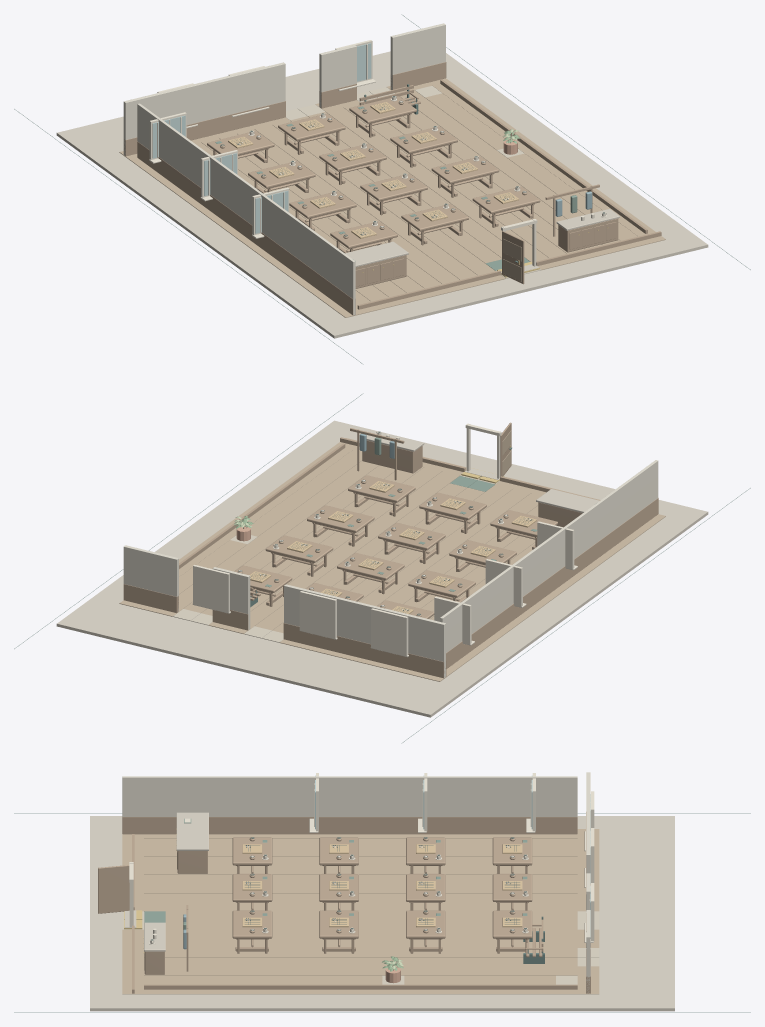
The model's file is room.glb.
3 views of the same model, one above another, from view 1: azimuth 30°, elevation 25°; view 2: azimuth 150°, elevation 25°; view 3: azimuth 270°, elevation 25° (orthographic). The views are drawn at different scales.
Visible parts, largest first — view 1: Campaign_floor, Campaign_wood, Campaign_stone, Campaign_plaster, Campaign_cream, Campaign_board, Campaign_glass, Campaign_paving, Campaign_metal, Campaign_ink; view 2: Campaign_stone, Campaign_floor, Campaign_wood, Campaign_plaster, Campaign_cream, Campaign_board, Campaign_paving, Campaign_metal, Campaign_ink, Campaign_cloth; view 3: Campaign_floor, Campaign_stone, Campaign_wood, Campaign_plaster, Campaign_cream, Campaign_board, Campaign_metal, Campaign_paving, Campaign_ink, Campaign_cloth.
Part boxes in pixels (bbox=[...]): Campaign_floor: bbox=[119, 78, 665, 317]; Campaign_wood: bbox=[124, 62, 661, 315]; Campaign_stone: bbox=[56, 51, 708, 338]; Campaign_plaster: bbox=[123, 23, 445, 315]; Campaign_cream: bbox=[149, 40, 606, 266]; Campaign_board: bbox=[228, 102, 518, 238]; Campaign_glass: bbox=[152, 43, 371, 233]; Campaign_paving: bbox=[286, 86, 540, 278]; Campaign_metal: bbox=[14, 14, 750, 364]; Campaign_ink: bbox=[220, 96, 604, 236]; Campaign_stone: bbox=[56, 420, 708, 717]; Campaign_floor: bbox=[119, 430, 665, 681]; Campaign_wood: bbox=[123, 422, 658, 678]; Campaign_plaster: bbox=[123, 460, 658, 677]; Campaign_cream: bbox=[192, 423, 577, 657]; Campaign_board: bbox=[250, 481, 536, 614]; Campaign_paving: bbox=[173, 475, 505, 642]; Campaign_metal: bbox=[14, 393, 750, 743]; Campaign_ink: bbox=[238, 431, 532, 615]; Campaign_cloth: bbox=[265, 437, 596, 591]; Campaign_floor: bbox=[122, 829, 599, 994]; Campaign_stone: bbox=[90, 812, 674, 1011]; Campaign_wood: bbox=[98, 812, 590, 993]; Campaign_plaster: bbox=[122, 772, 590, 993]; Campaign_cream: bbox=[129, 773, 594, 944]; Campaign_board: bbox=[242, 844, 522, 927]; Campaign_metal: bbox=[14, 813, 750, 1012]; Campaign_paving: bbox=[122, 911, 599, 984]; Campaign_ink: bbox=[151, 837, 526, 940]; Campaign_cloth: bbox=[144, 818, 527, 929].
Size of what is drawn, in the model's own units: 17.41 by 2.45 by 27.2.
